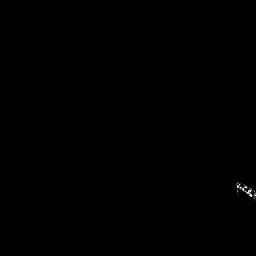ship: (235, 178, 256, 202)
